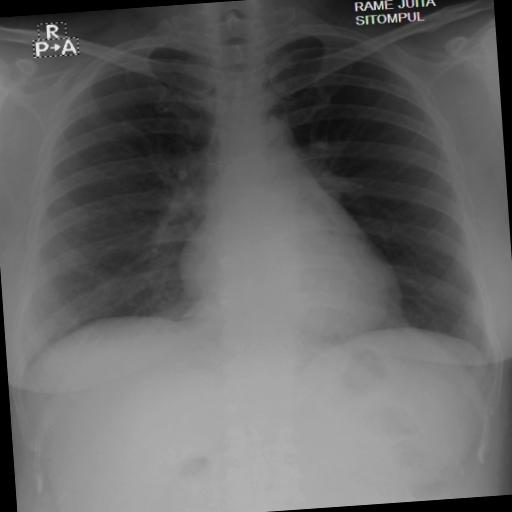kardiomegali: (0, 0, 503, 401)
